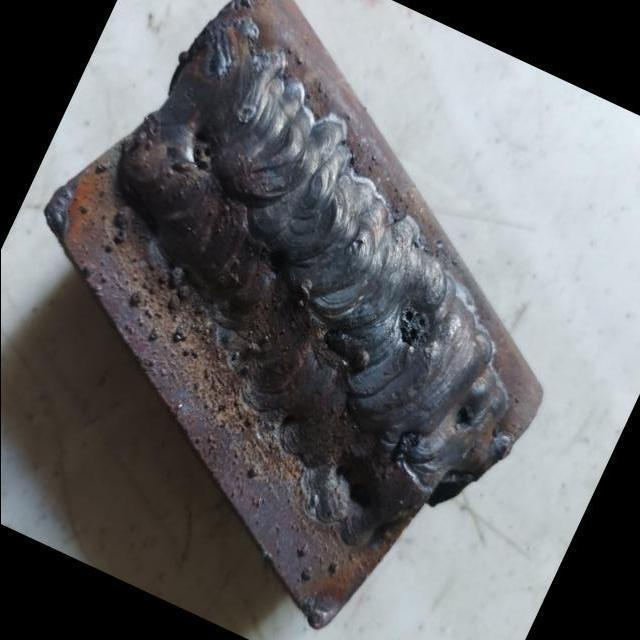defect: (396, 300, 436, 352), (384, 426, 424, 474), (187, 122, 216, 180), (449, 404, 476, 437), (265, 243, 288, 274), (238, 103, 256, 122)
